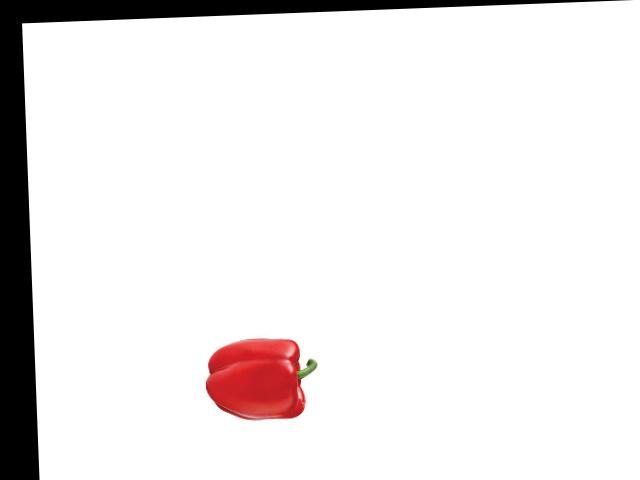bell_pepper: (200, 331, 319, 427)
